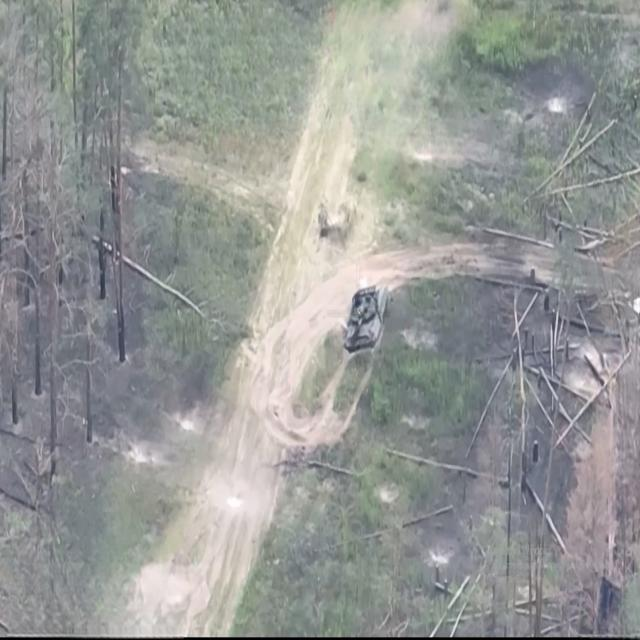MBT: (343, 283, 390, 357)
